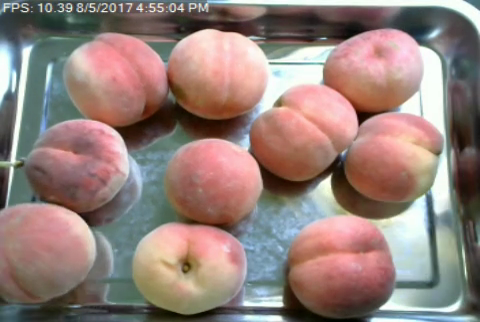Peach: (286, 214, 395, 319), (249, 82, 357, 181), (133, 221, 245, 316), (24, 117, 129, 213), (64, 32, 169, 128), (0, 202, 97, 303), (167, 25, 270, 120), (340, 111, 443, 205), (321, 25, 424, 113), (163, 139, 263, 224)
